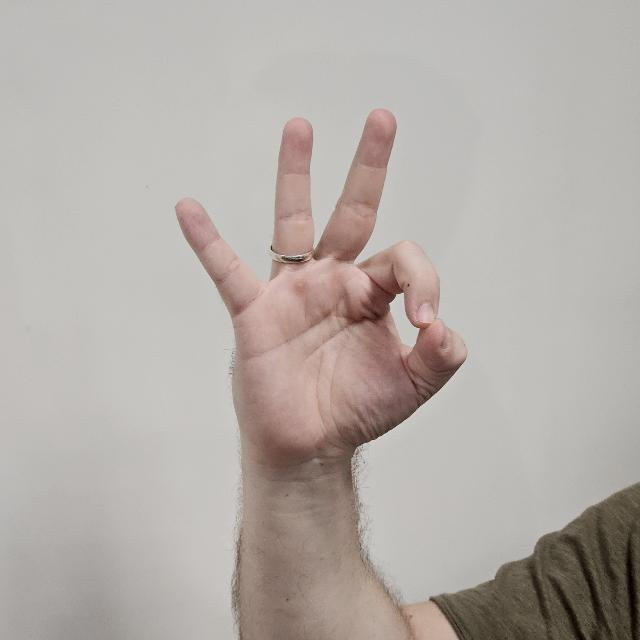Bolinha: (168, 111, 480, 477)
